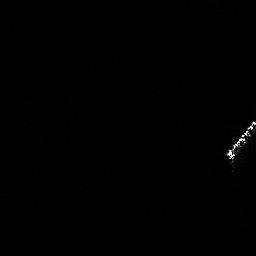ship: (224, 118, 256, 165)
